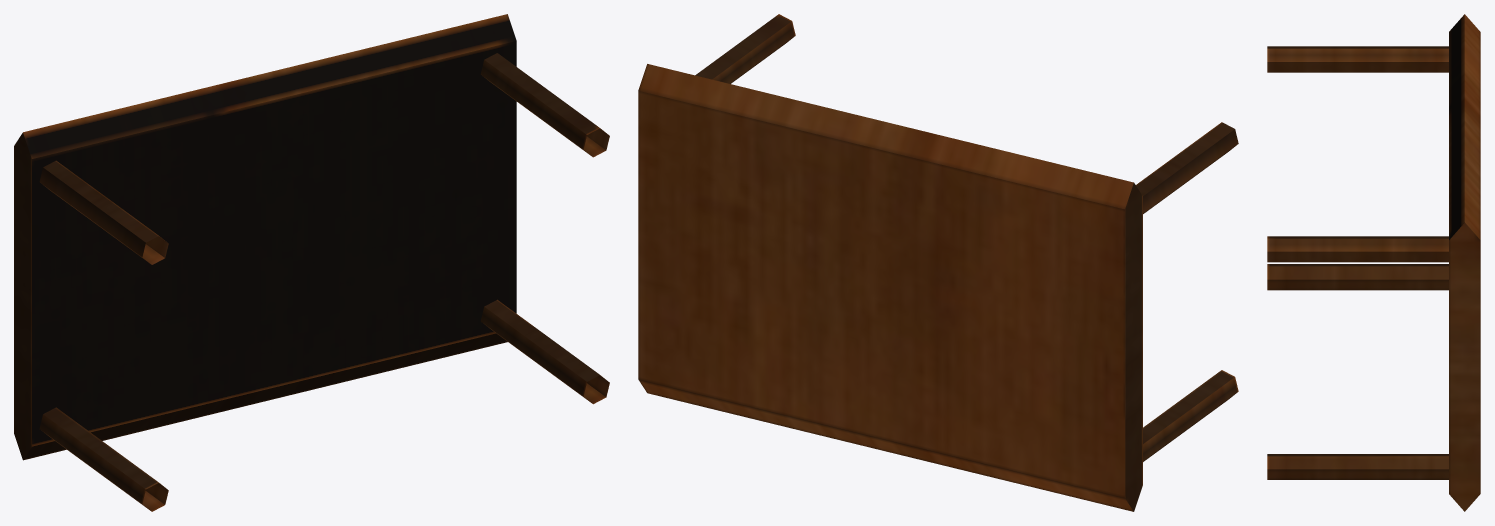
Rendered from table.dae.
3 views of the same model, side by side, from view 1: azimuth 30°, elevation 25°; view 2: azimuth 150°, elevation 25°; view 3: azimuth 270°, elevation 25° (orthographic). The views are drawn at different scales.
Visible parts, largest first — view 1: table; view 2: table; view 3: table.
Part boxes in pixels (box(x1,y1,x2,y2)): table: box(14, 14, 609, 511); table: box(638, 14, 1238, 511); table: box(1267, 14, 1480, 511).
Bounding box in the file's own units: 3 × 1.29 × 1.94.
1 material, 1 textured.
